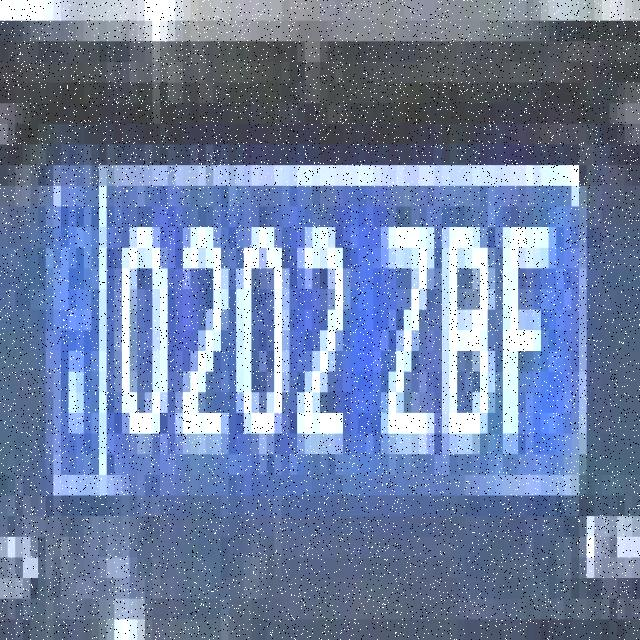licenseplate: (45, 138, 589, 524)
